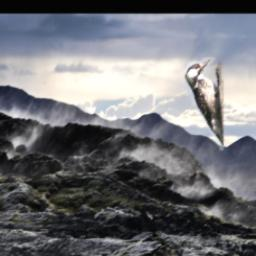Woodpecker: (186, 59, 225, 152)
